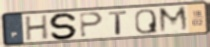H: (25, 14, 49, 43)
M: (157, 5, 191, 34)
P: (79, 11, 105, 39)
Q: (134, 8, 159, 35)
S: (48, 12, 80, 41)
T: (108, 10, 129, 36)
